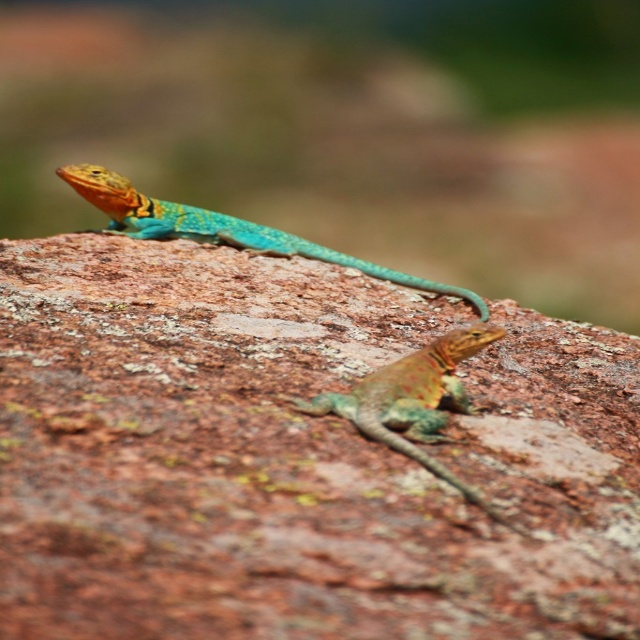Lizard: (70, 165, 482, 316), (298, 316, 515, 533)
